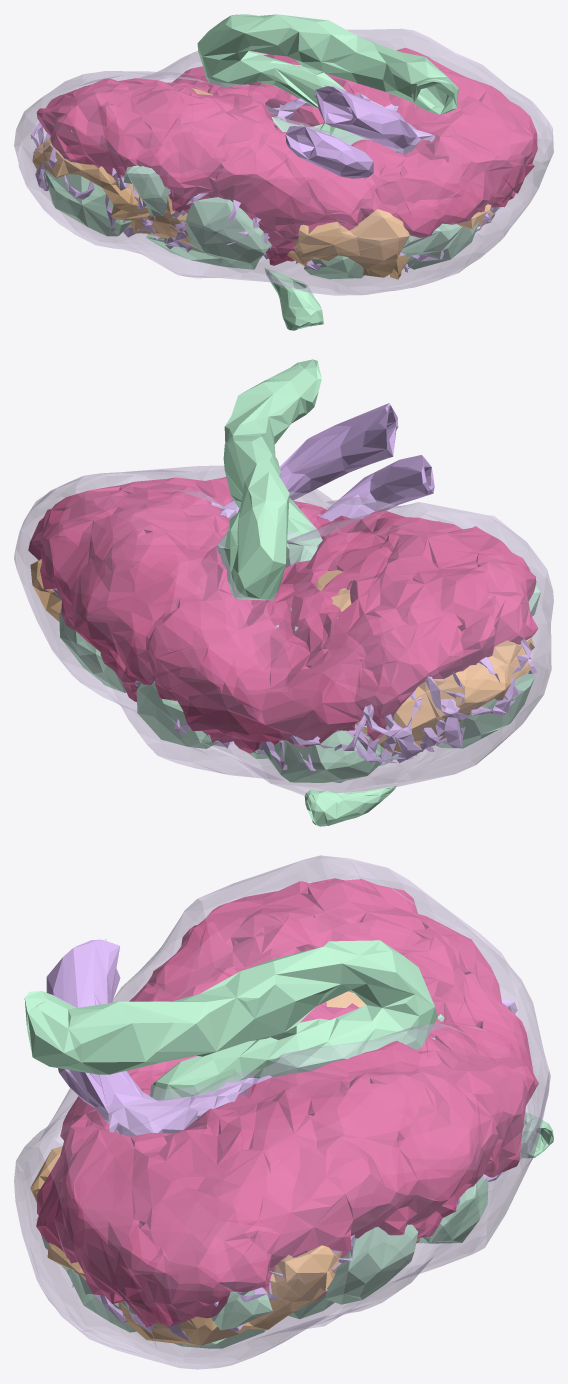
The model's file is organ-lymph-node.glb.
3 renders of one model, top to bottom at view 1: azimuth 30°, elevation 25°; view 2: azimuth 150°, elevation 25°; view 3: azimuth 270°, elevation 25°, orthographic. The views are drawn at different scales.
Visible parts, largest first — view 1: capsule-of-lymph-node, medulla-of-lymph-node, efferent-lymph-node, follicles, blood-vasculature, paracortex, afferent-lymphatic-vessel; view 2: capsule-of-lymph-node, medulla-of-lymph-node, blood-vasculature, efferent-lymph-node, follicles, paracortex, afferent-lymphatic-vessel; view 3: capsule-of-lymph-node, medulla-of-lymph-node, efferent-lymph-node, blood-vasculature, follicles, paracortex, afferent-lymphatic-vessel.
Boxes of the visible parts, box(x1,y1,x2,y2) form: capsule-of-lymph-node: box(14, 28, 553, 295); medulla-of-lymph-node: box(36, 47, 537, 265); efferent-lymph-node: box(197, 14, 458, 144); follicles: box(44, 165, 479, 279); blood-vasculature: box(30, 85, 501, 272); paracortex: box(32, 88, 495, 279); afferent-lymphatic-vessel: box(264, 268, 323, 330); capsule-of-lymph-node: box(14, 465, 553, 795); medulla-of-lymph-node: box(28, 477, 538, 753); blood-vasculature: box(53, 403, 537, 770); efferent-lymph-node: box(217, 359, 322, 631); follicles: box(59, 583, 540, 782); paracortex: box(30, 559, 534, 752); afferent-lymphatic-vessel: box(304, 780, 396, 826); capsule-of-lymph-node: box(14, 855, 550, 1369); medulla-of-lymph-node: box(36, 878, 538, 1327); efferent-lymph-node: box(24, 940, 444, 1100); blood-vasculature: box(46, 939, 517, 1341); follicles: box(36, 1176, 488, 1348); paracortex: box(30, 991, 419, 1345); afferent-lymphatic-vessel: box(520, 1112, 553, 1158).
Size of the model in its own units: 0.0184 by 0.0107 by 0.013.
